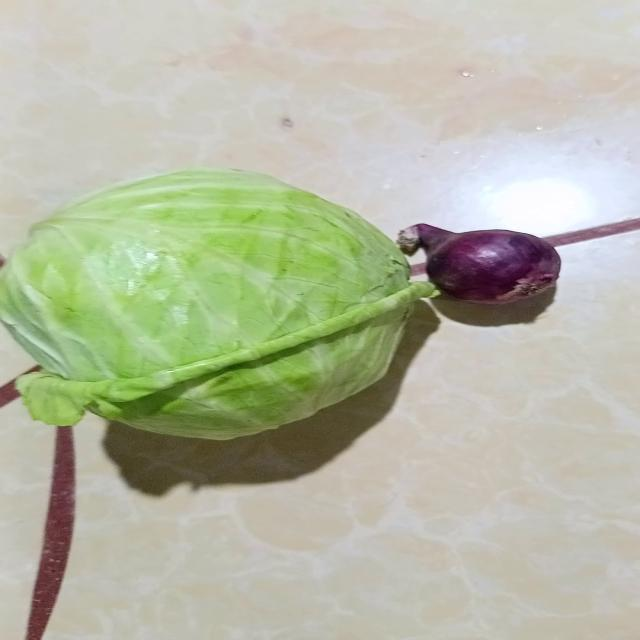cabbage: (1, 171, 436, 442)
onion: (395, 224, 564, 308)
